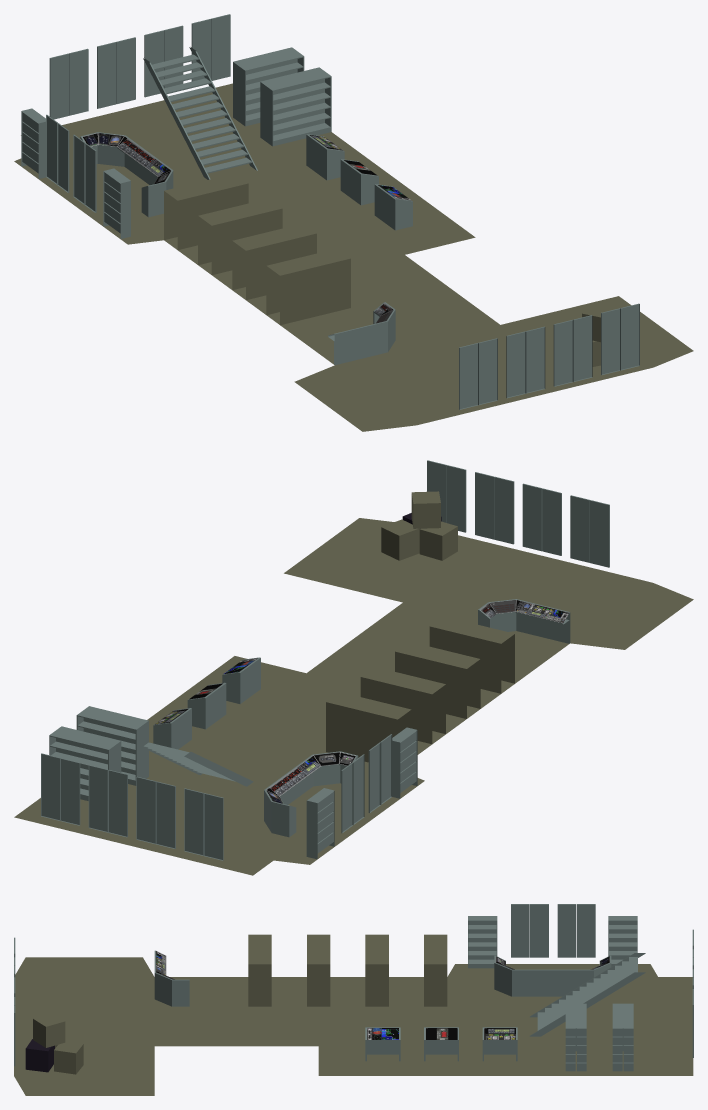
Rendered from CTRL_Tower_assets_FLG.fbx.
The picture shows the model from 3 angles, top to bottom: view 1: azimuth 30°, elevation 25°; view 2: azimuth 150°, elevation 25°; view 3: azimuth 270°, elevation 25°; orthographic projection. The views are drawn at different scales.
Parts seen in each view (by area): view 1: polySurface324, polySurface106, polySurface289, pCube54, polySurface292, polySurface291, polySurface293, polySurface294, pCube90, polySurface453, polySurface452, polySurface430 (+13 smaller); view 2: polySurface324, polySurface293, polySurface289, polySurface291, polySurface292, polySurface294, polySurface47, pCube54, pCube90, polySurface430, polySurface450, polySurface452 (+16 smaller); view 3: polySurface324, polySurface294, polySurface106, polySurface434, polySurface435, polySurface289, polySurface292, polySurface291, polySurface293, pCube91, pCube90, pCube54 (+8 smaller).
Part boxes in pixels (x1,y1,x2,y2): polySurface324: (14,83,693,431); polySurface106: (143,47,257,179); polySurface289: (266,248,350,325); pCube54: (260,67,331,146); polySurface292: (198,198,282,274); polySurface291: (232,223,316,300); polySurface293: (164,173,248,249); polySurface294: (80,132,173,217); pCube90: (233,47,304,126); polySurface453: (506,326,545,398); polySurface452: (553,315,592,386); polySurface430: (49,48,88,119); polySurface324: (14,518,693,875); polySurface293: (326,692,411,762); polySurface289: (429,616,514,693); polySurface291: (395,641,480,718); polySurface292: (360,667,445,744); polySurface294: (264,751,358,837); polySurface47: (478,599,570,643); pCube54: (76,706,148,785); pCube90: (49,726,121,800); polySurface430: (184,788,223,860); polySurface450: (570,495,609,567); polySurface452: (475,472,514,544); polySurface324: (14,957,693,1095); polySurface294: (494,955,611,996); polySurface106: (529,953,645,1036); polySurface434: (557,904,595,957); polySurface435: (511,904,548,957); polySurface289: (248,934,271,1006); polySurface292: (365,934,388,1006); polySurface291: (307,934,330,1006); polySurface293: (424,934,447,1006); pCube91: (468,916,497,968); pCube90: (612,1003,633,1071); pCube54: (565,1003,586,1071).
Size of the model in its own units: 1400 by 301 by 2903.
8 materials, 5 textured.
